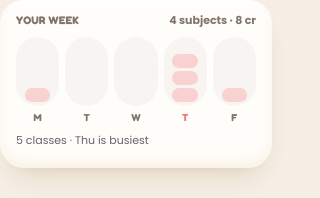
Test case: a small tooltip names the subject, teacher, day, time and room, and goes away
Hover over the button named "Mon 11:10 AM – 12:40 PM, Internet of Things, LR29": (38, 94) [25,88,50,102]
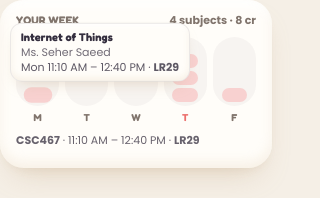
Expected: the tooltip shows "Internet of Things", [21,29,113,43]
Expected: the tooltip shows "Ms. Seher Saeed", [21,43,111,59]
Expected: the tooltip shows "Mon", [21,58,45,74]
Move the pointer off the button named "Mon 11:10 AM – 12:40 PM, Internet of Things, LR29", box [24,87,52,102]
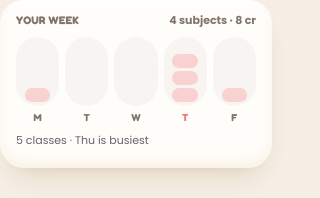
Expected: the tooltip "Internet of Things Ms. Seher Saeed Mon 11:10 AM – 12:40 PM · LR29" is gone
Hover over the button named "Thu 8:00–11:05 AM, Web Engineering Lab": (185, 94) [172,88,198,102]
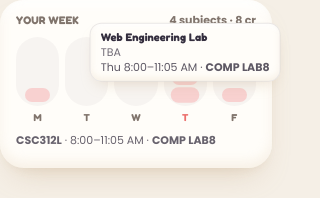
Expected: the tooltip shows "TBA", [101,43,121,59]
Press Escape in the button named "Thu 8:00–11:05 AM, Web Engineering Lab", box [171,87,199,102]
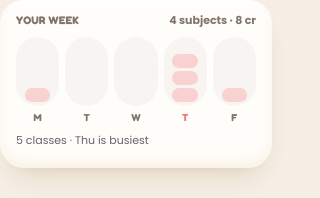
Expected: the tooltip "Web Engineering Lab TBA Thu 8:00–11:05 AM · COMP LAB8" is gone
